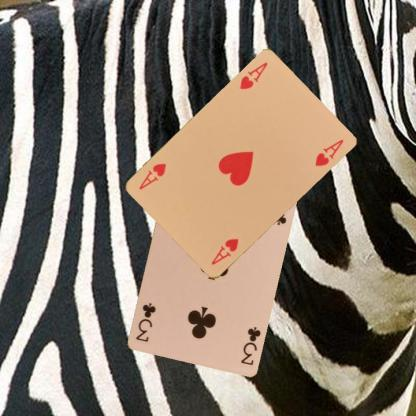3c: (238, 324, 262, 366)
Ah: (237, 60, 269, 92), (209, 236, 240, 267)
